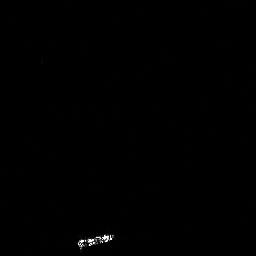ship: (74, 230, 120, 251)
